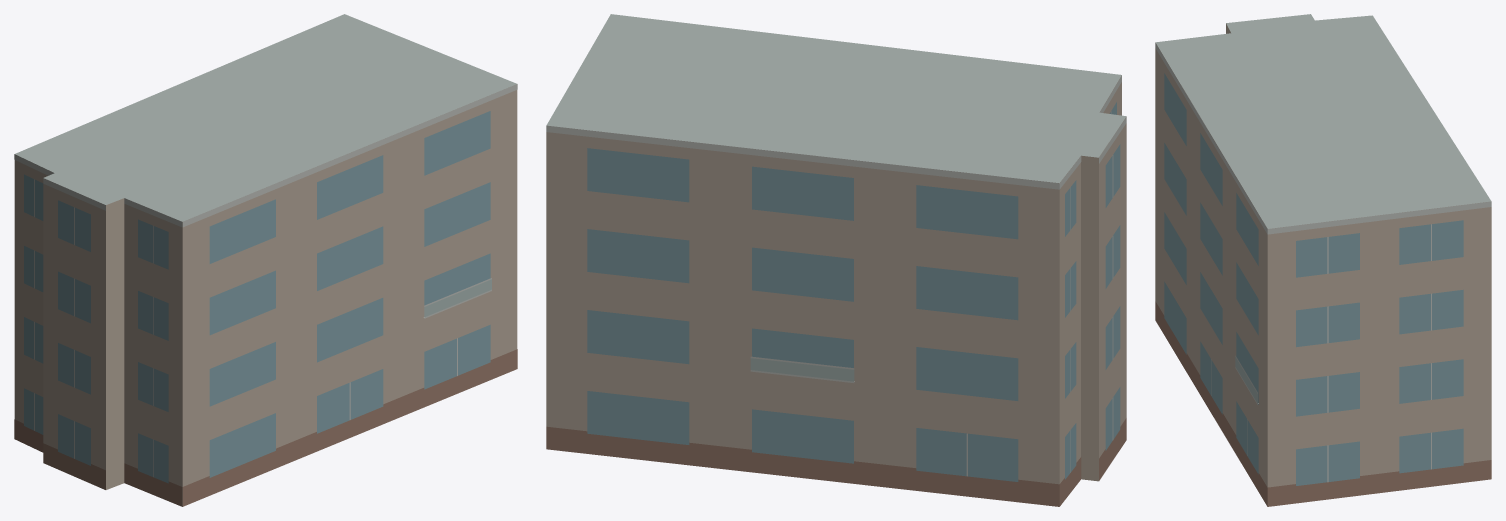
File: survey-upis-32651298.glb
3 renders of one model, left to right at view 1: azimuth 30°, elevation 25°; view 2: azimuth 150°, elevation 25°; view 3: azimuth 270°, elevation 25°, orthographic. The views are drawn at different scales.
Parts seen in each view (by area): view 1: survey-upis-32651298.tmp; view 2: survey-upis-32651298.tmp; view 3: survey-upis-32651298.tmp.
Part boxes in pixels (bbox=[...]): survey-upis-32651298.tmp: bbox=[14, 14, 517, 506]; survey-upis-32651298.tmp: bbox=[546, 14, 1126, 506]; survey-upis-32651298.tmp: bbox=[1155, 14, 1491, 506].
Bounding box in the file's own units: 20.25 × 12.2 × 13.39.
